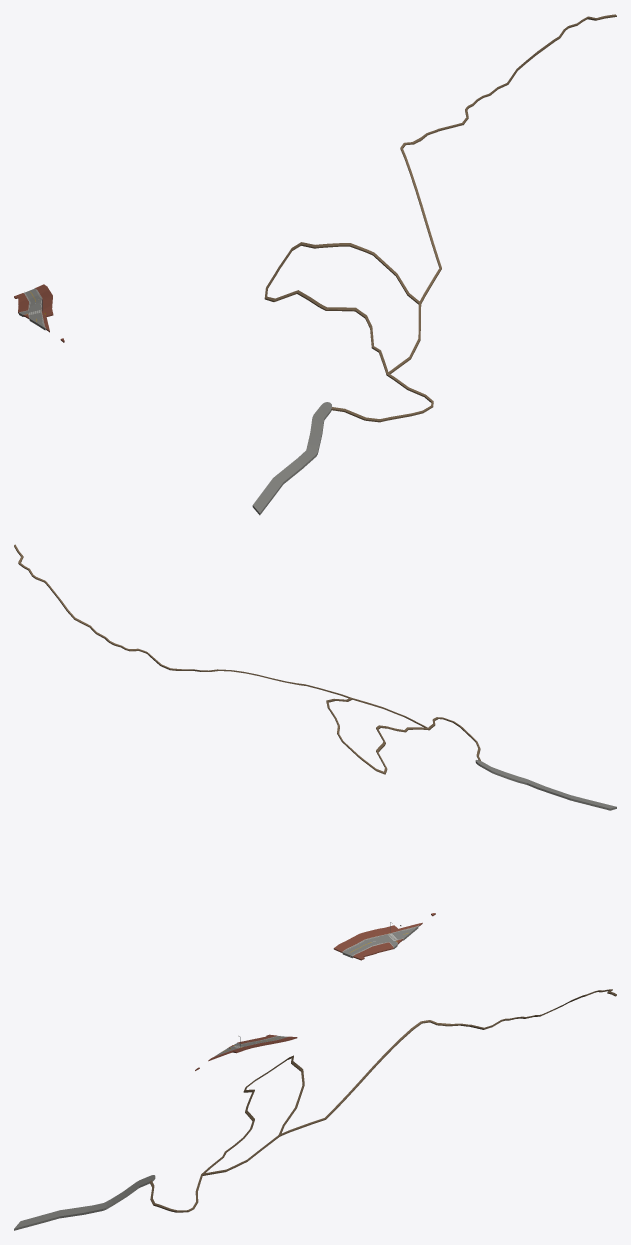
3 views of the same model, one above another, from view 1: azimuth 30°, elevation 25°; view 2: azimuth 150°, elevation 25°; view 3: azimuth 330°, elevation 25° (orthographic). The views are drawn at different scales.
Size of the model in its own units: 293 by 150 by 264.
